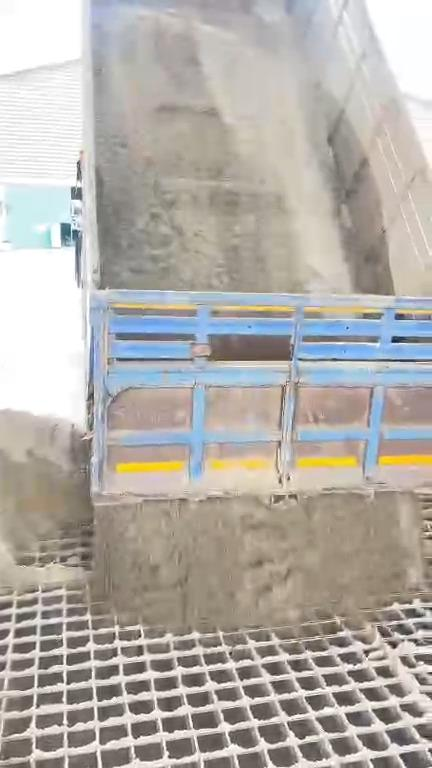sand: (92, 0, 350, 291), (94, 493, 419, 629), (0, 410, 91, 586)
